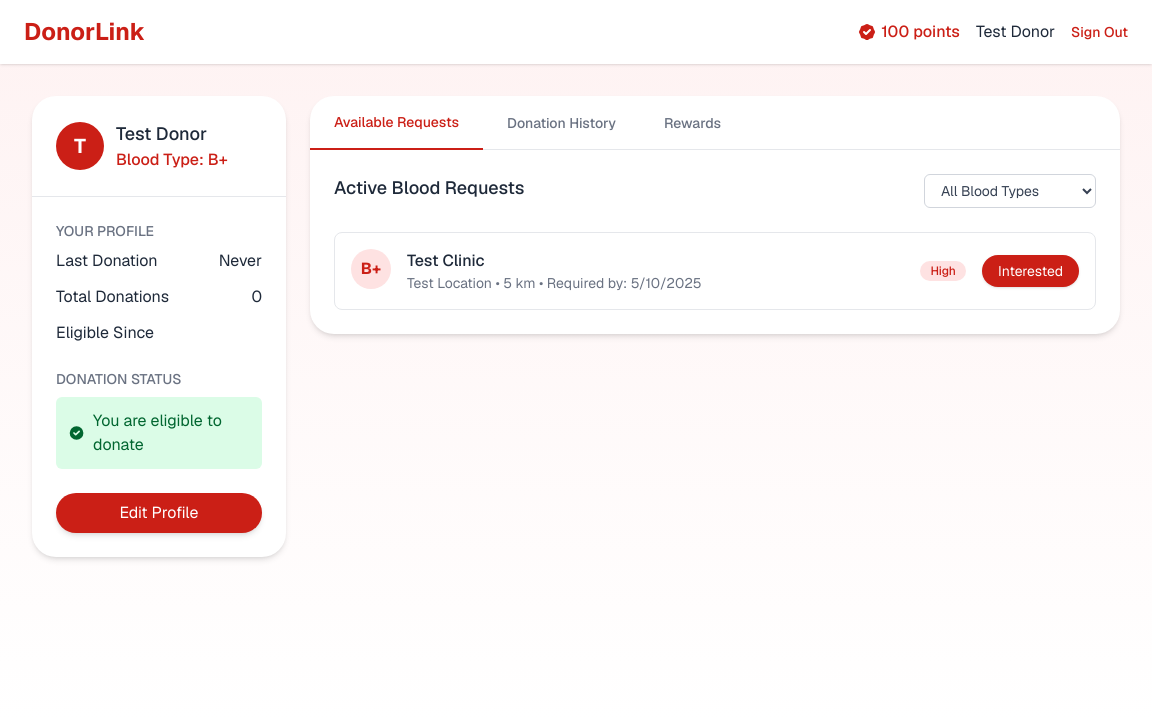
Test: Blood Request Flow Integration › Clinic Request Flow › donor can express interest in a blood request
Expected: the heading "Test Clinic" is shown, [407,250,485,271]
# Click the Interested button
Click the button "Interested" at (1030, 271), box [982,255,1079,287]
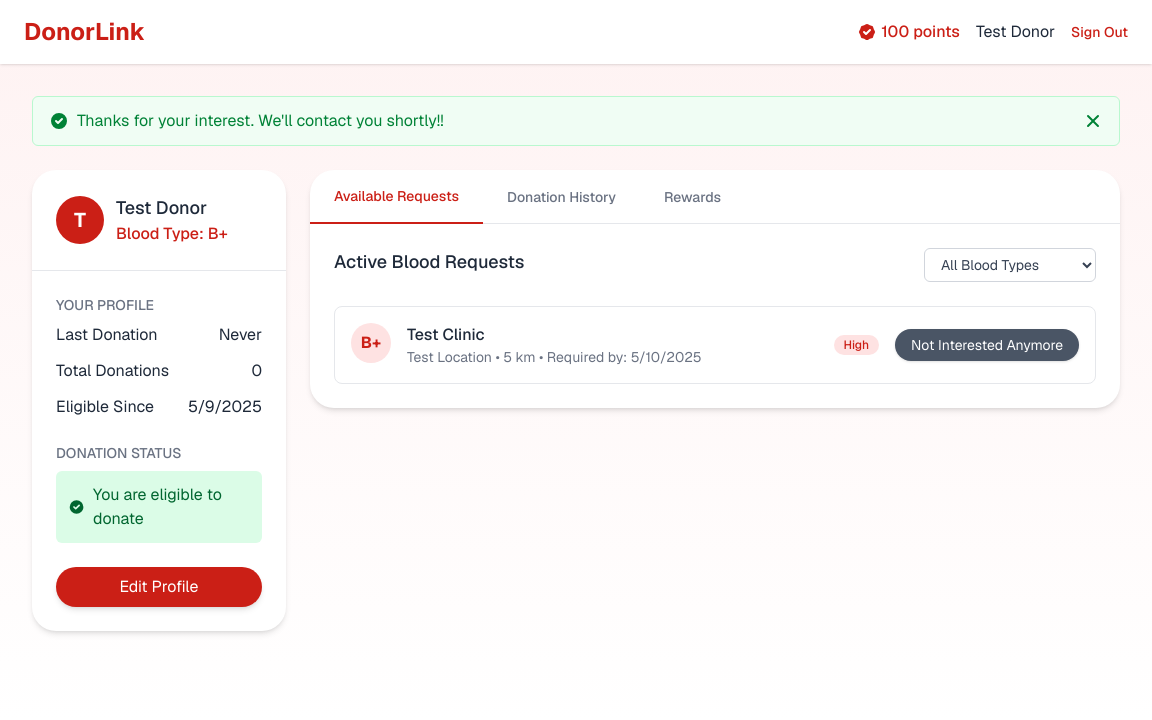
Now the text "Thanks for your interest. We'll contact you shortly!!" is shown, box [77,109,444,133]
